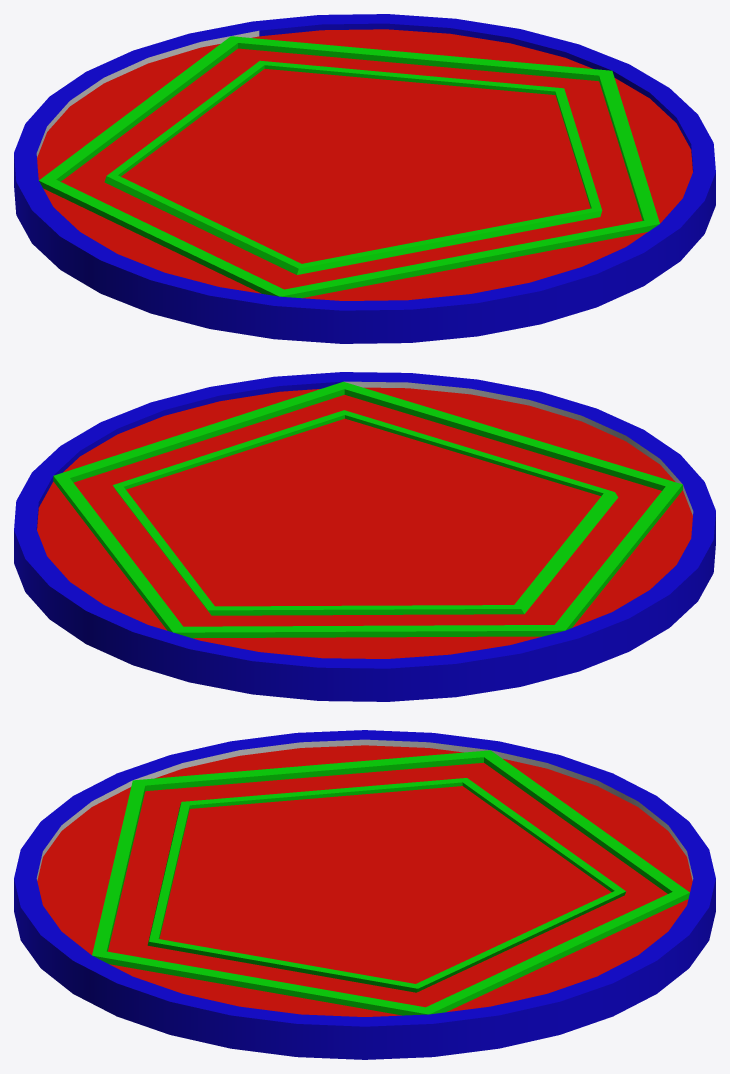
Rendered from pedestal_uv.fbx.
3 renders of one model, top to bottom at view 1: azimuth 30°, elevation 25°; view 2: azimuth 150°, elevation 25°; view 3: azimuth 270°, elevation 25°, orthographic.
Visible parts, largest first — view 1: Pedestal; view 2: Pedestal; view 3: Pedestal.
Boxes of the visible parts, x1,y1,x2,y2 form: Pedestal: (14, 14, 715, 343); Pedestal: (14, 372, 715, 701); Pedestal: (14, 730, 715, 1059).
Size of the model in its own units: 200 by 10.45 by 200.
